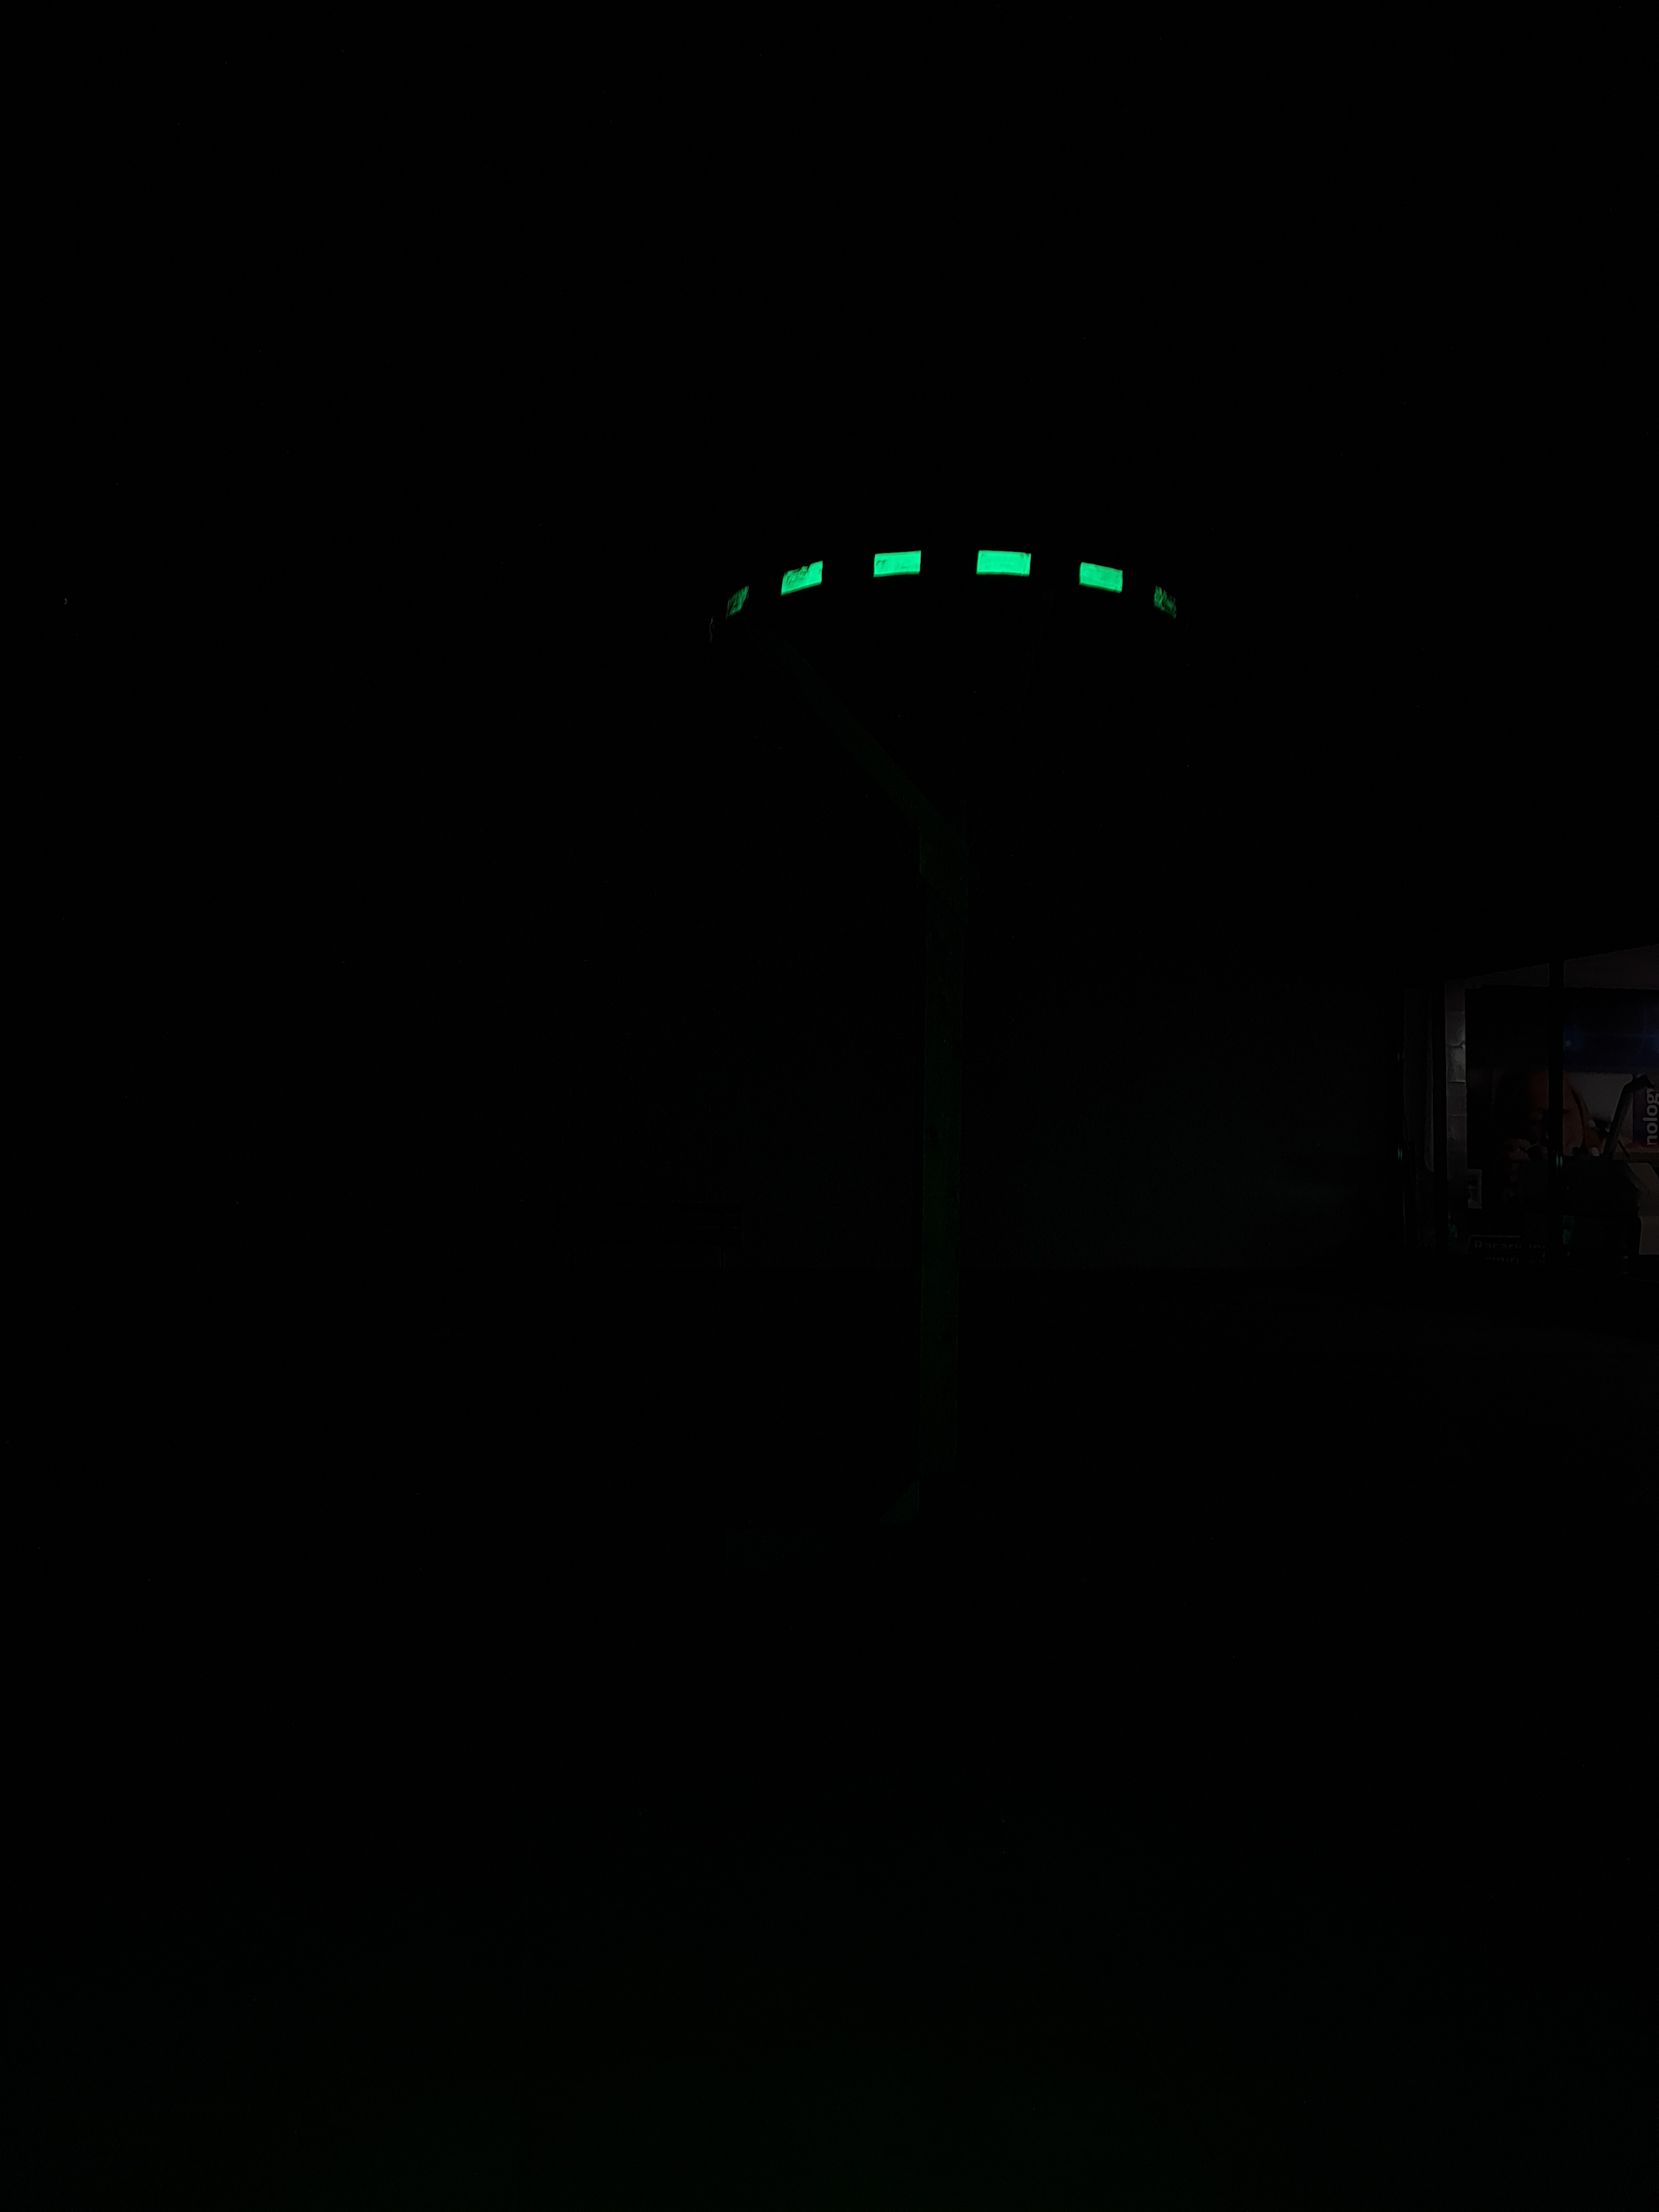hoop: (652, 517, 1208, 646)
